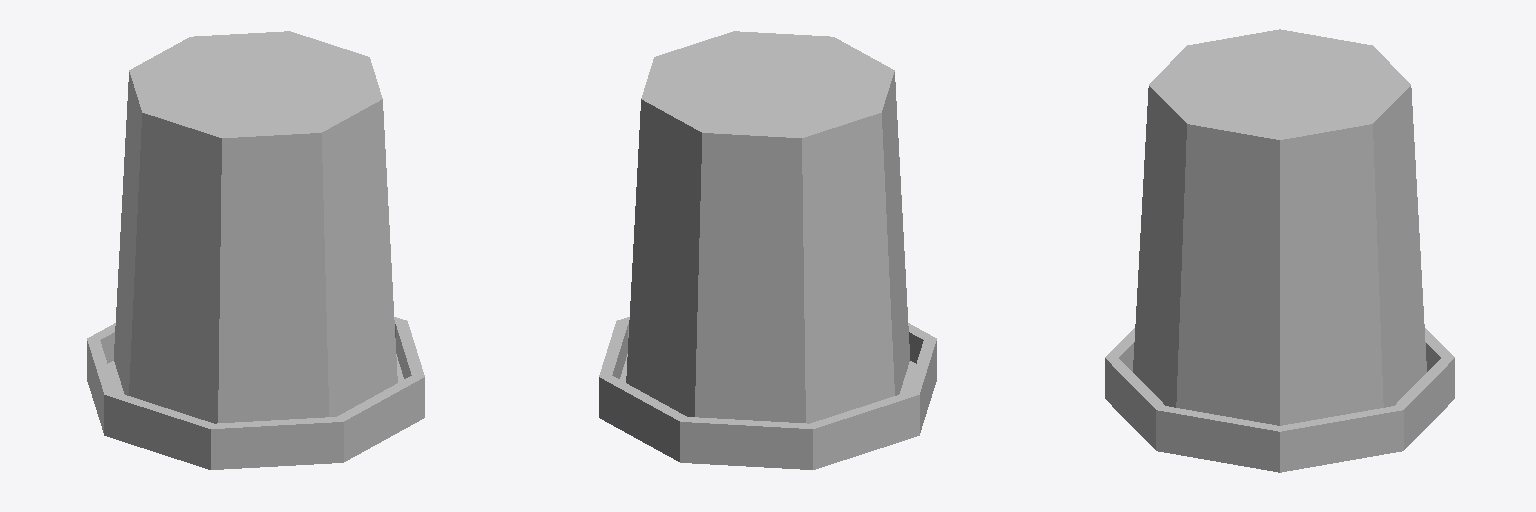
File: bucket.obj
The picture shows the model from 3 angles: view 1: azimuth 30°, elevation 25°; view 2: azimuth 150°, elevation 25°; view 3: azimuth 270°, elevation 25°; orthographic projection.
Visible parts, largest first — view 1: trashCan_null_1; view 2: trashCan_null_1; view 3: trashCan_null_1.
Part boxes in pixels (bbox=[...]): trashCan_null_1: bbox=[87, 31, 424, 469]; trashCan_null_1: bbox=[599, 31, 936, 469]; trashCan_null_1: bbox=[1105, 29, 1454, 472].
Bounding box in the file's own units: 6.03 × 6.51 × 6.03.